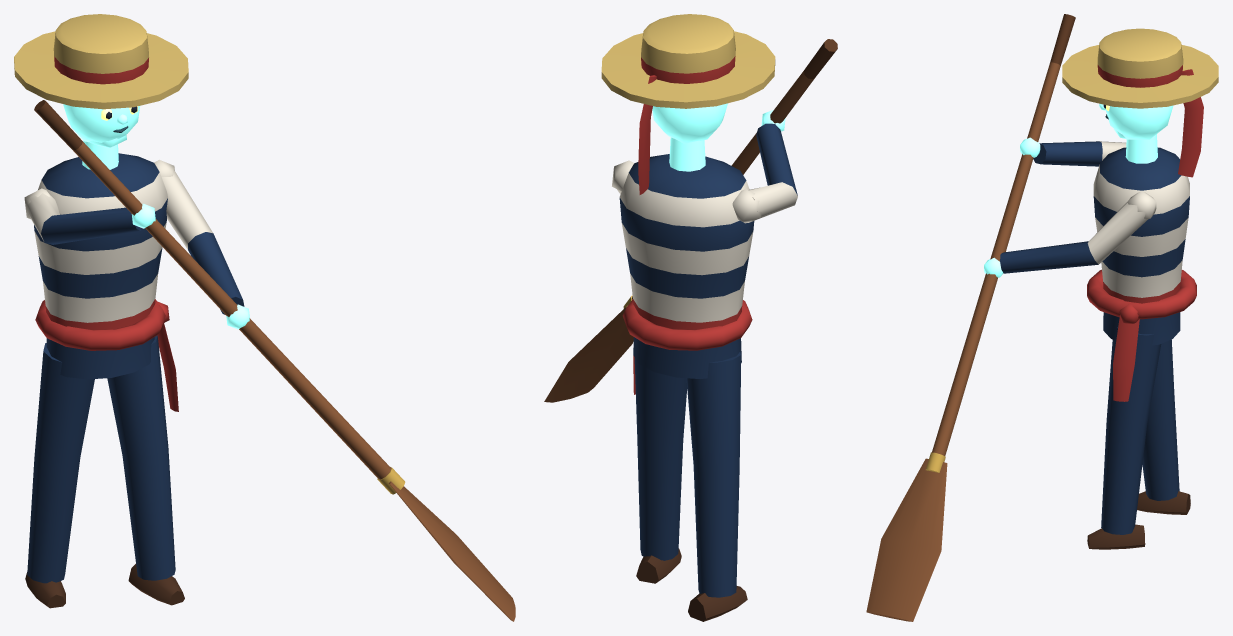
The model's file is npc_soul_gondolier.glb.
3 views of the same model, side by side, from view 1: azimuth 30°, elevation 25°; view 2: azimuth 150°, elevation 25°; view 3: azimuth 270°, elevation 25° (orthographic). The views are drawn at different scales.
Parts seen in each view (by area): view 1: npc_soul_gondolier; view 2: npc_soul_gondolier; view 3: npc_soul_gondolier.
Boxes of the visible parts, bbox=[...] form: npc_soul_gondolier: bbox=[14, 14, 515, 621]; npc_soul_gondolier: bbox=[544, 14, 837, 621]; npc_soul_gondolier: bbox=[866, 14, 1218, 621].
Size of the model in its own units: 1.28 by 1.78 by 1.17.
